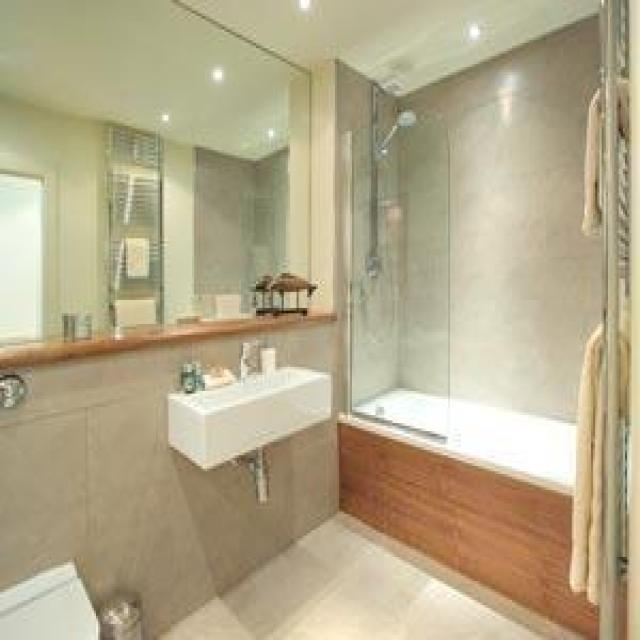faucet: (237, 338, 260, 380)
pots: (96, 589, 143, 637)
windows: (0, 0, 311, 369), (0, 160, 51, 358)
